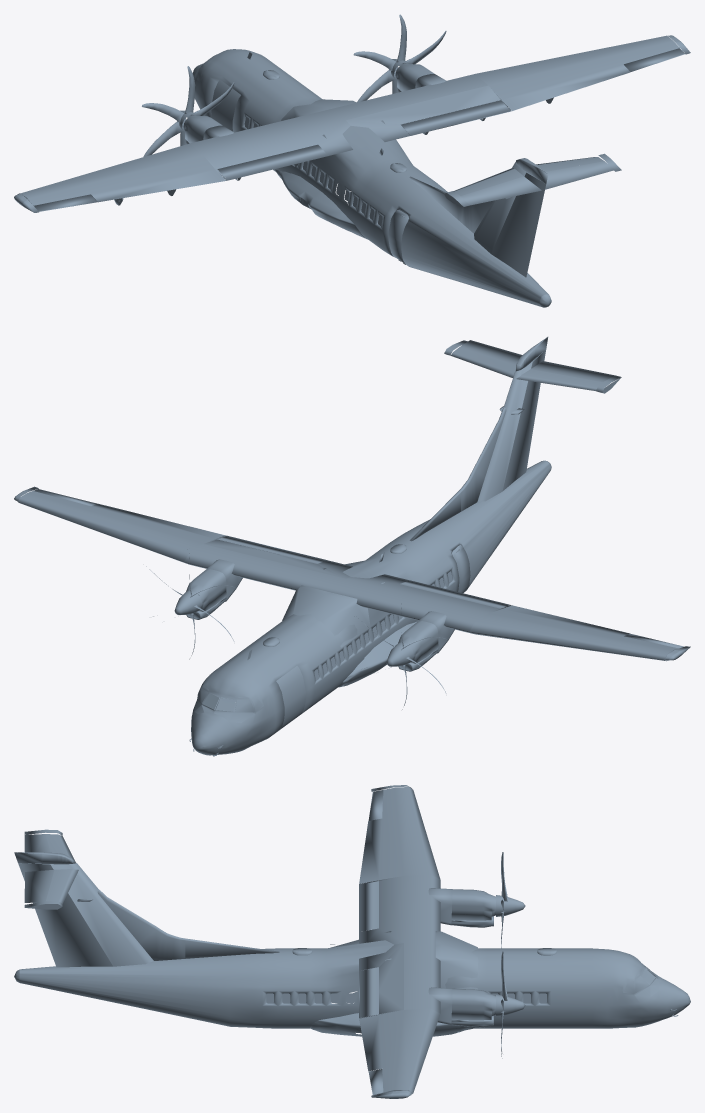
The model's file is ATR42.glb.
3 views of the same model, one above another, from view 1: azimuth 30°, elevation 25°; view 2: azimuth 150°, elevation 25°; view 3: azimuth 270°, elevation 25° (orthographic). The views are drawn at different scales.
Size of the model in its own units: 24.68 by 6.59 by 22.77.
